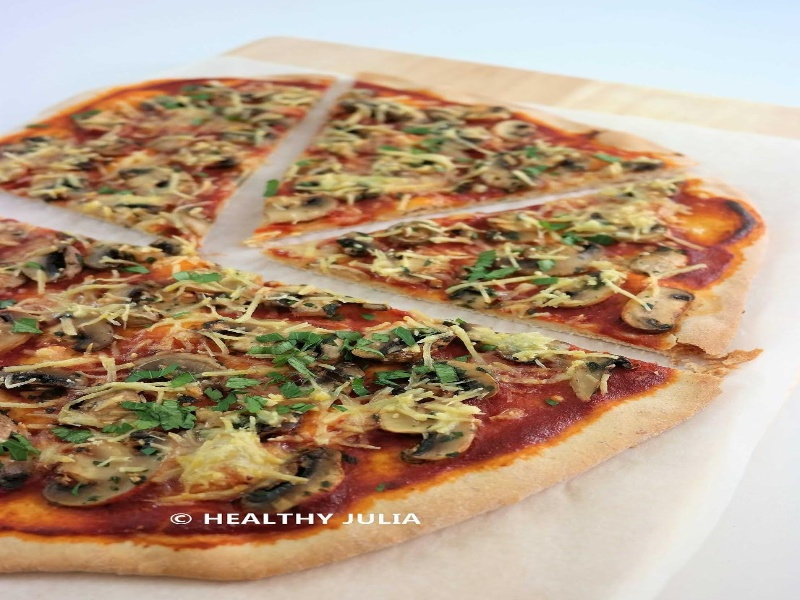champignon: (371, 397, 484, 468), (43, 454, 166, 512), (615, 282, 698, 339)
